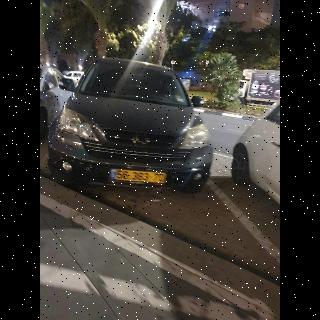LicensePlate: (115, 170, 166, 183)
